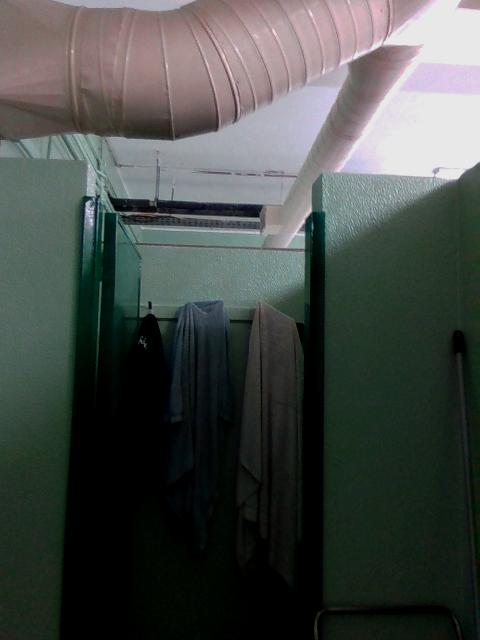open_door: (61, 162, 324, 638)
